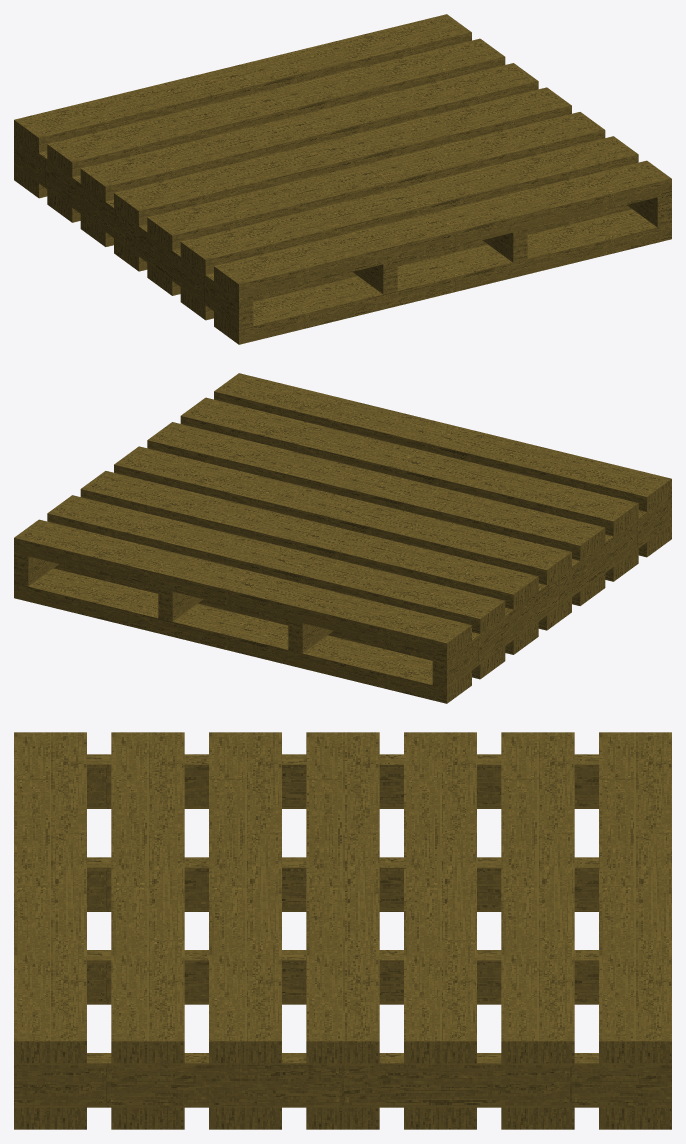
Rendered from WoodenPallet.glb.
3 renders of one model, top to bottom at view 1: azimuth 30°, elevation 25°; view 2: azimuth 150°, elevation 25°; view 3: azimuth 270°, elevation 25°, orthographic. The views are drawn at different scales.
Parts seen in each view (by area): view 1: Cube.007; view 2: Cube.007; view 3: Cube.007.
Part boxes in pixels (left/top/right/bottom): Cube.007: left=14, top=14, right=671, bottom=344; Cube.007: left=14, top=373, right=671, bottom=703; Cube.007: left=14, top=732, right=671, bottom=1129.
Size of the model in its own units: 1.5 by 0.2 by 1.35.
1 material, 1 textured.
